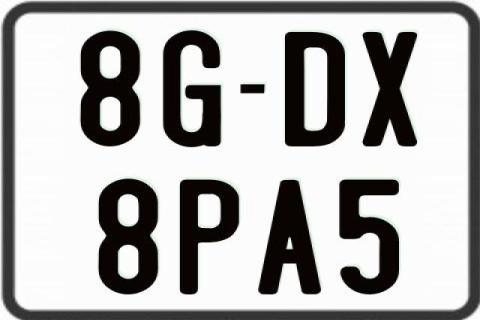0: (338, 178, 401, 296), (80, 30, 140, 146), (98, 177, 158, 293)
A: (256, 180, 320, 295)
D: (282, 32, 343, 150)
G: (161, 31, 222, 147)
P: (179, 178, 238, 294)
X: (361, 32, 417, 151)
